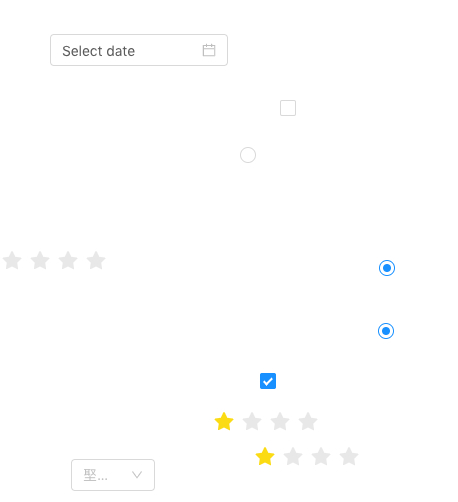Checkbox: (260, 370, 276, 391), (280, 97, 296, 118)
DatePicker: (50, 34, 228, 66)
Radio: (240, 144, 256, 164), (379, 257, 395, 277), (378, 320, 394, 340)
Rate: (255, 440, 375, 472), (2, 244, 122, 276), (214, 405, 334, 437)
Select: (71, 459, 155, 491)
